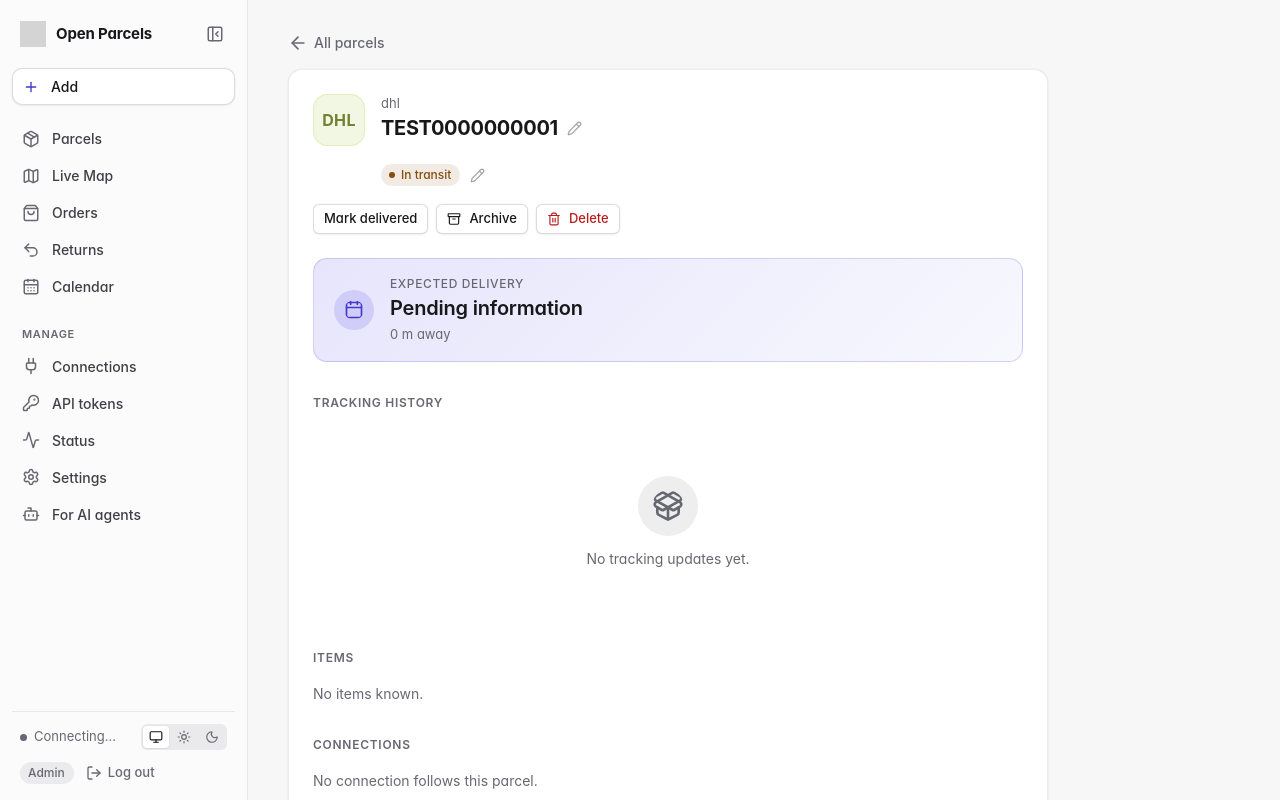
an ended session and a deleted parcel › goes back to sign-in when a change is refused with 401
The image size is (1280, 800).
What coordinates should you click on to do the following:
click the button "Archive"
I would click on:
 (482, 219)
Its box is x1=436 y1=204 x2=528 y2=234.
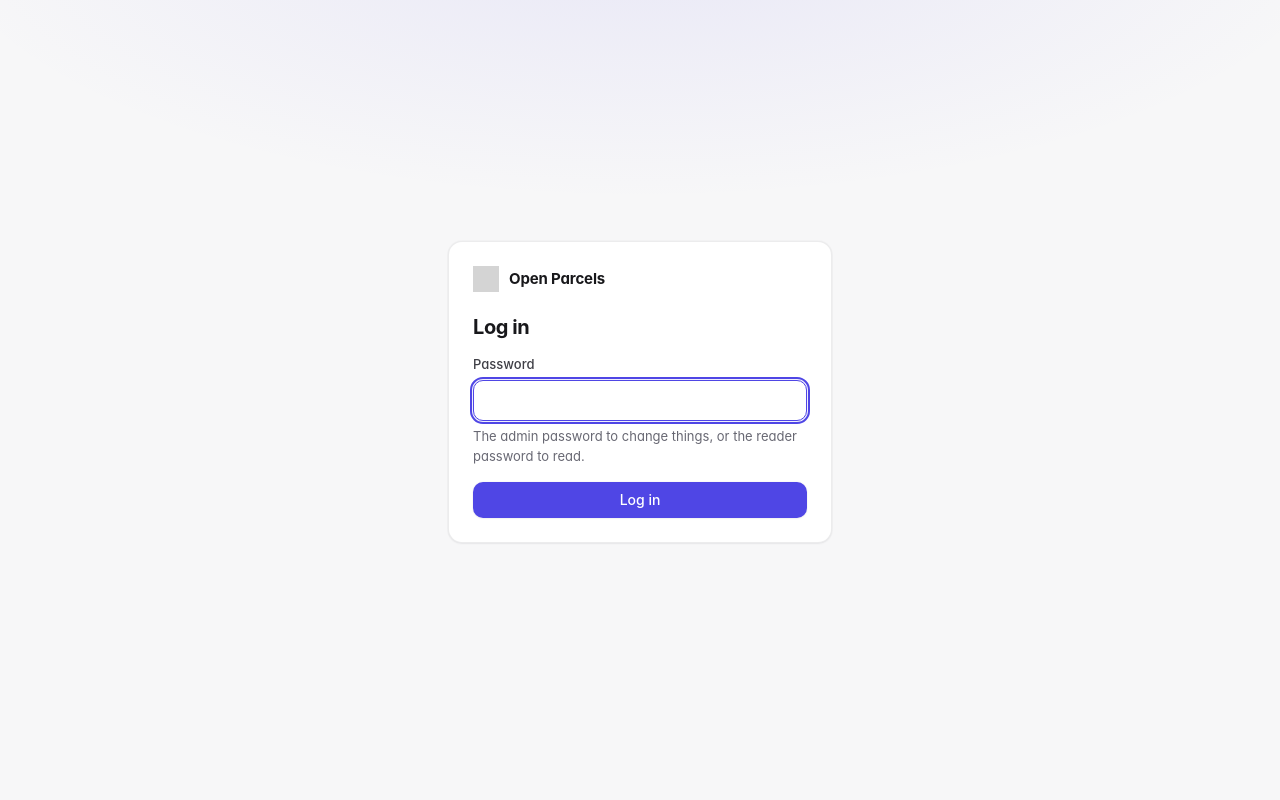
Now the password field labelled "Password" is shown, box x1=473 y1=380 x2=807 y2=421
